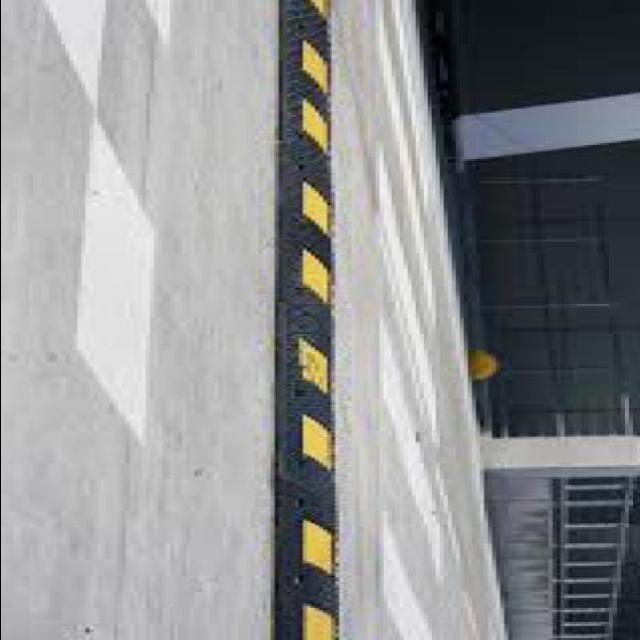speedbreaker: (260, 0, 344, 640)
